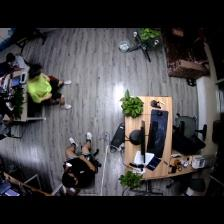normal: (25, 68, 73, 109), (63, 137, 100, 188), (7, 52, 32, 75)
